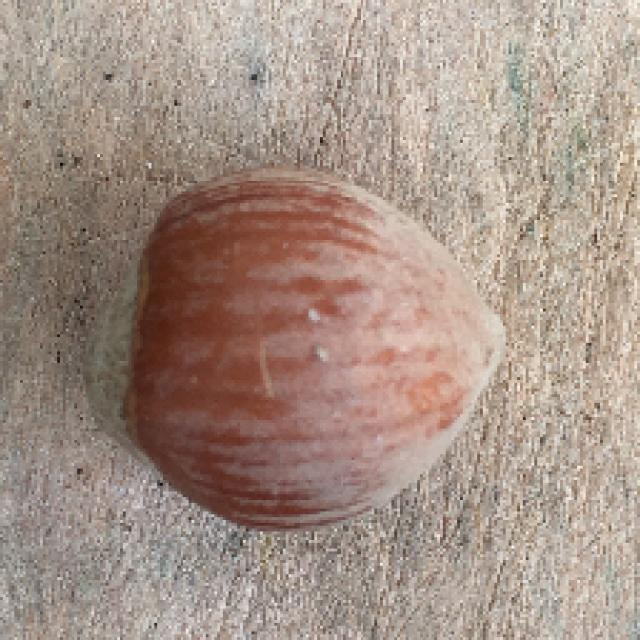qualityHazelnut: (110, 167, 502, 538)
